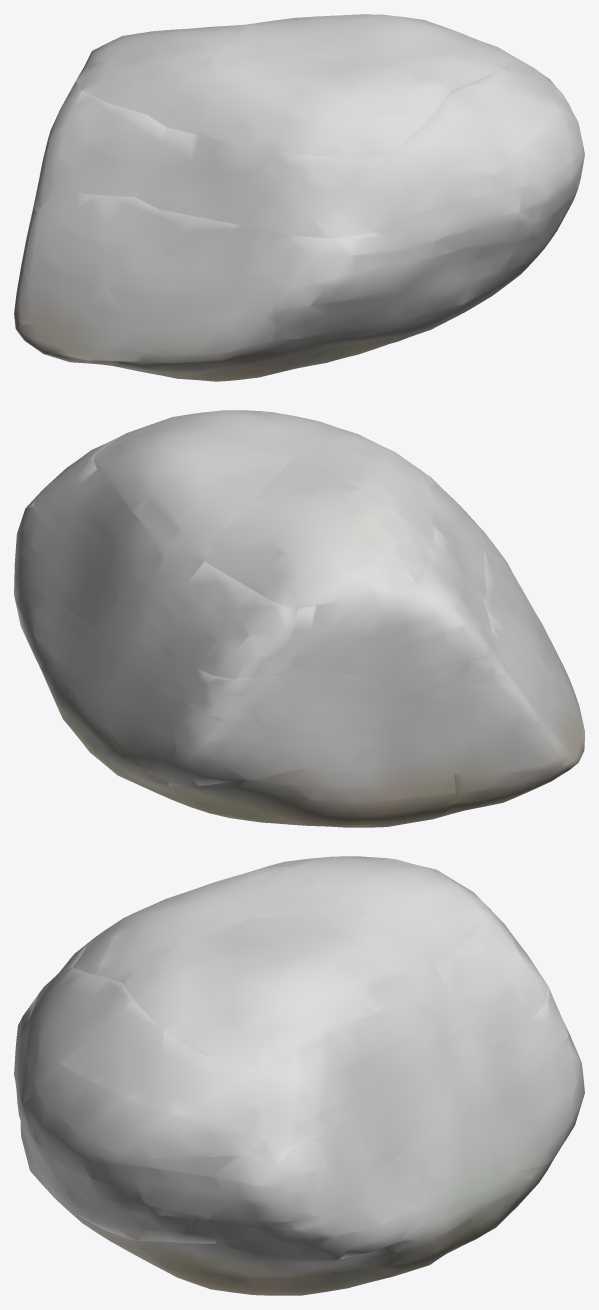
The model's file is coal_rock_v6.glb.
3 views of the same model, one above another, from view 1: azimuth 30°, elevation 25°; view 2: azimuth 150°, elevation 25°; view 3: azimuth 270°, elevation 25° (orthographic). The views are drawn at different scales.
Parts seen in each view (by area): view 1: Chunk_28, Chunk_23, Chunk_10, Chunk_24, Chunk_11, Chunk_17, Chunk_29, Chunk_22, Chunk_18, Chunk_27, Chunk_04, Chunk_16 (+4 smaller); view 2: Chunk_09, Chunk_27, Chunk_29, Chunk_22, Chunk_08, Chunk_21, Chunk_02, Chunk_25, Chunk_15, Chunk_28, Chunk_07, Chunk_19 (+8 smaller); view 3: Chunk_29, Chunk_24, Chunk_19, Chunk_07, Chunk_25, Chunk_21, Chunk_27, Chunk_28, Chunk_00, Chunk_08, Chunk_18, Chunk_01 (+7 smaller).
Boxes of the visible parts, box(x1,y1,x2,y2) form: Chunk_28: box(148, 57, 452, 156); Chunk_23: box(134, 127, 413, 238); Chunk_10: box(44, 238, 275, 354); Chunk_24: box(389, 46, 583, 213); Chunk_11: box(272, 233, 547, 339); Chunk_17: box(144, 209, 388, 287); Chunk_29: box(247, 14, 509, 89); Chunk_22: box(39, 56, 166, 196); Chunk_18: box(384, 146, 584, 262); Chunk_27: box(77, 24, 252, 114); Chunk_04: box(92, 336, 362, 381); Chunk_16: box(34, 177, 159, 245); Chunk_09: box(305, 659, 569, 774); Chunk_27: box(203, 489, 428, 608); Chunk_29: box(93, 410, 292, 560); Chunk_22: box(291, 540, 492, 675); Chunk_08: box(97, 665, 306, 786); Chunk_21: box(138, 548, 297, 679); Chunk_02: box(172, 768, 455, 827); Chunk_25: box(34, 459, 168, 608); Chunk_15: box(172, 662, 382, 728); Chunk_28: box(260, 411, 433, 544); Chunk_07: box(14, 571, 117, 710); Chunk_19: box(14, 497, 118, 635); Chunk_29: box(123, 913, 433, 1064); Chunk_24: box(26, 967, 268, 1158); Chunk_19: box(141, 1078, 444, 1222); Chunk_07: box(210, 1117, 495, 1259); Chunk_25: box(266, 992, 451, 1149); Chunk_21: box(417, 906, 548, 1059); Chunk_27: box(286, 856, 487, 966); Chunk_28: box(73, 861, 287, 983); Chunk_00: box(133, 1240, 395, 1295); Chunk_08: box(480, 1030, 584, 1172); Chunk_18: box(14, 1020, 142, 1203); Chunk_01: box(387, 1159, 553, 1277).
Bounding box in the file's own units: 2.99 × 1.44 × 2.41.
